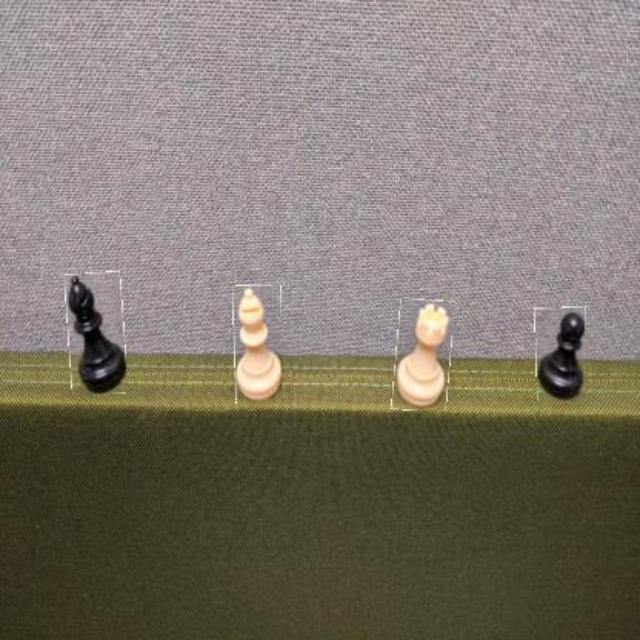black-bishop: (66, 271, 126, 394)
black-pawn: (535, 308, 587, 401)
white-bishop: (233, 286, 282, 407)
white-rook: (393, 299, 451, 411)
